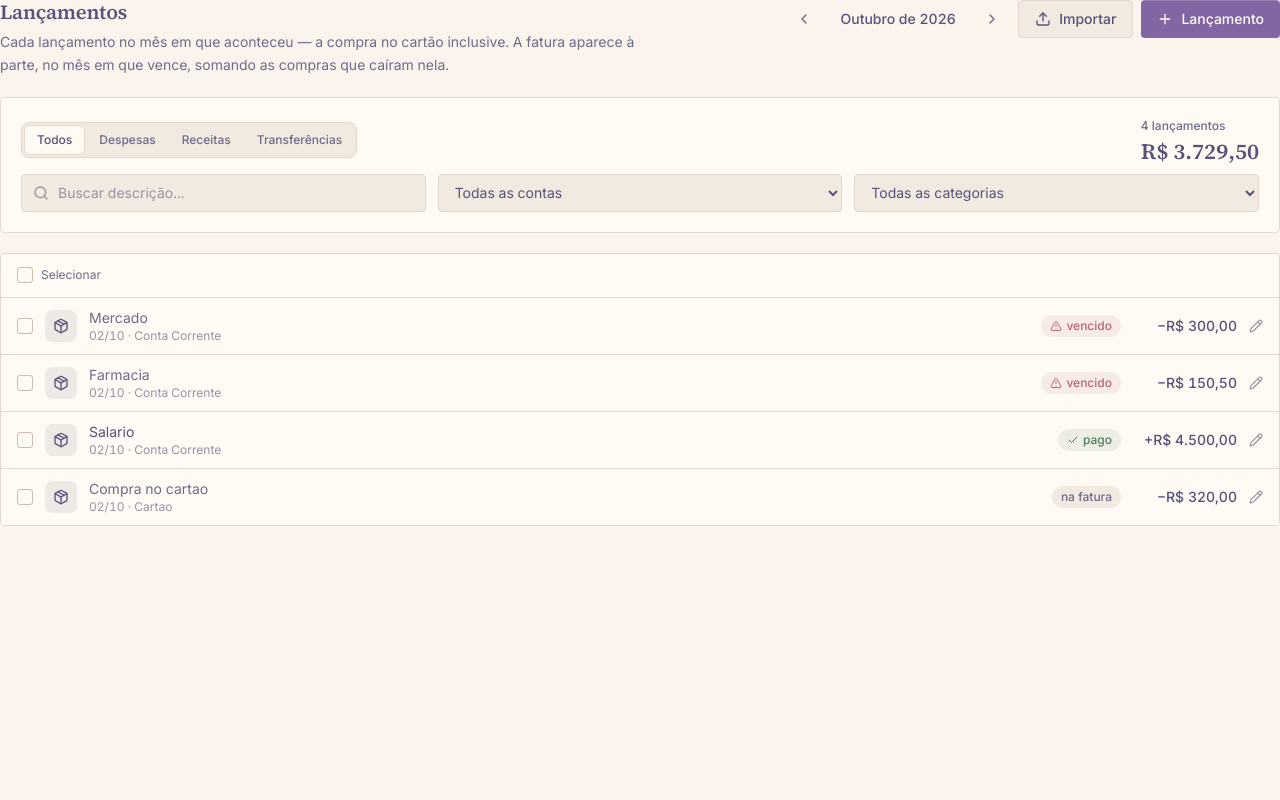
Test: seleção de lançamentos › com o editor aberto, o Esc é dele: fecha o editor e a seleção fica
Click the checkbox named "Selecionar Mercado, ": point(25, 326) [17,318,33,334]
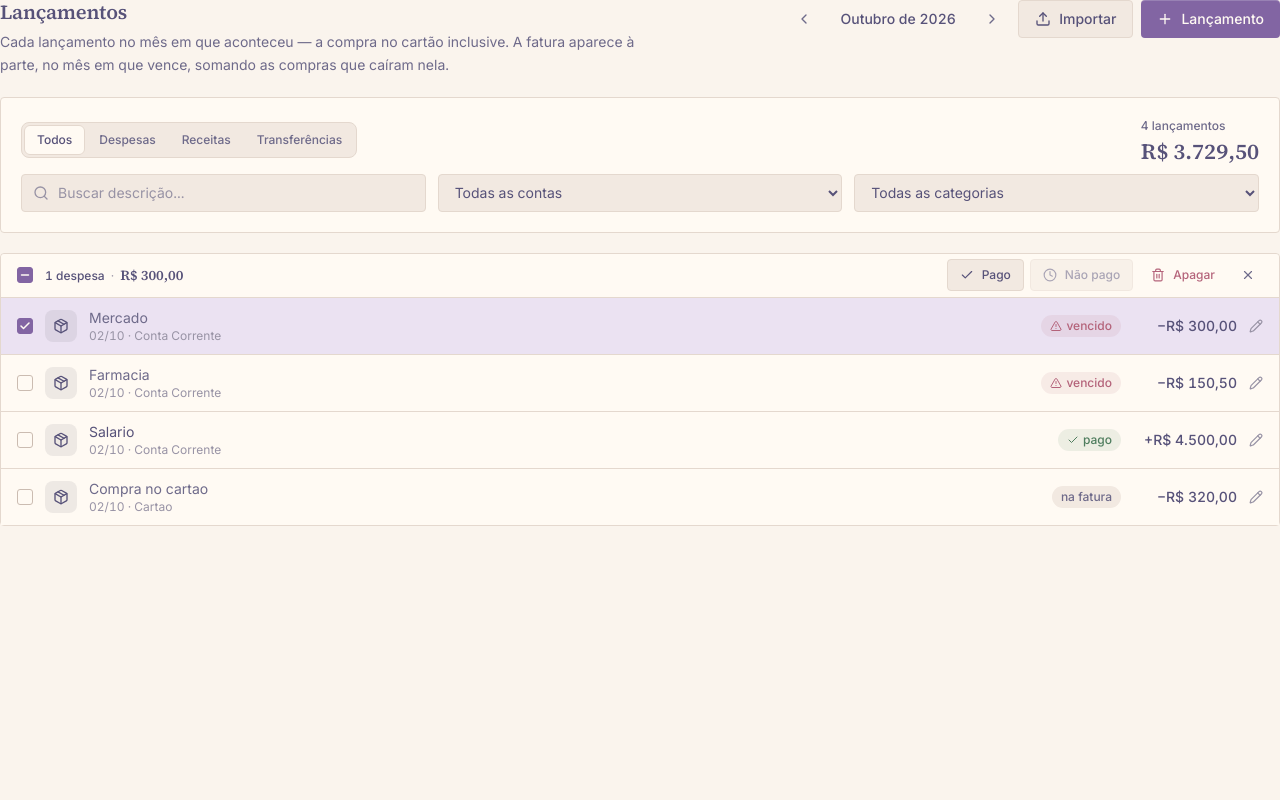
Click the text "Mercado": point(118, 317) [89,308,148,326]
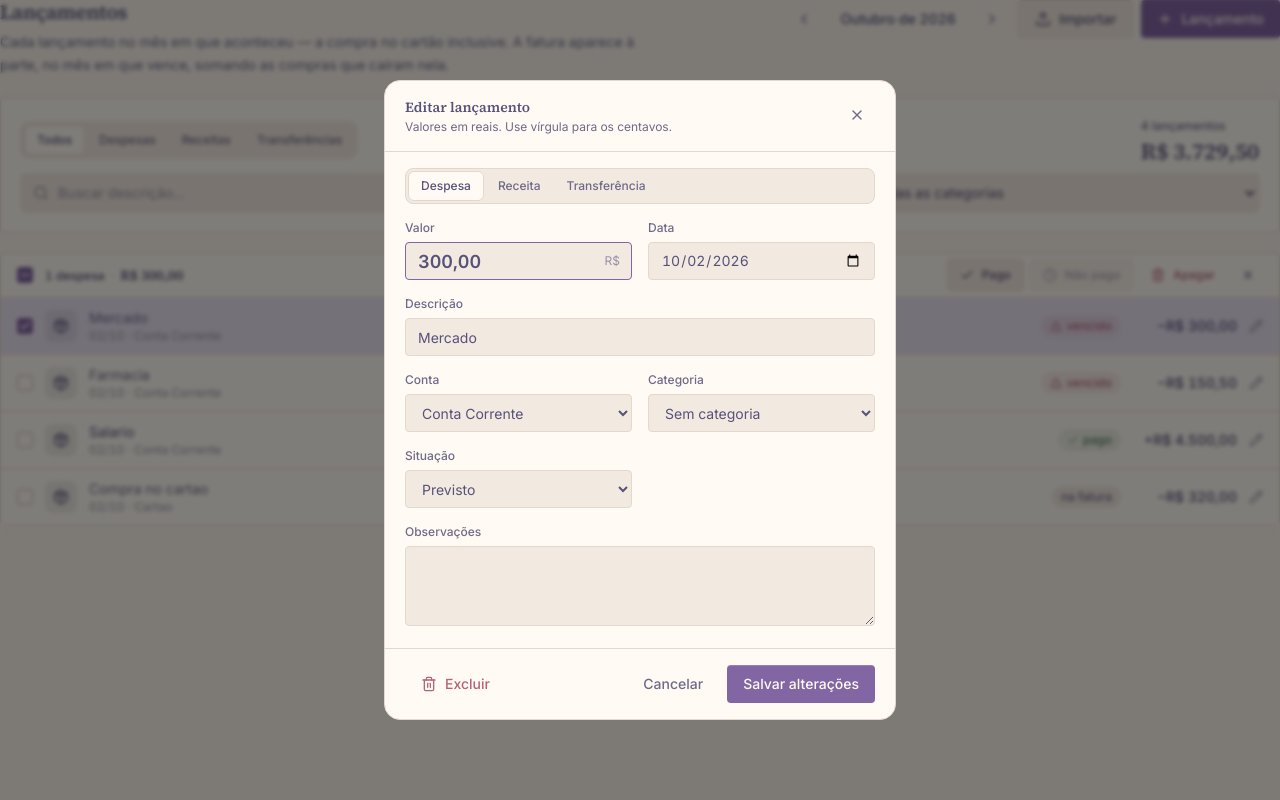
Press Escape in the dialog, box [384,80,896,720]
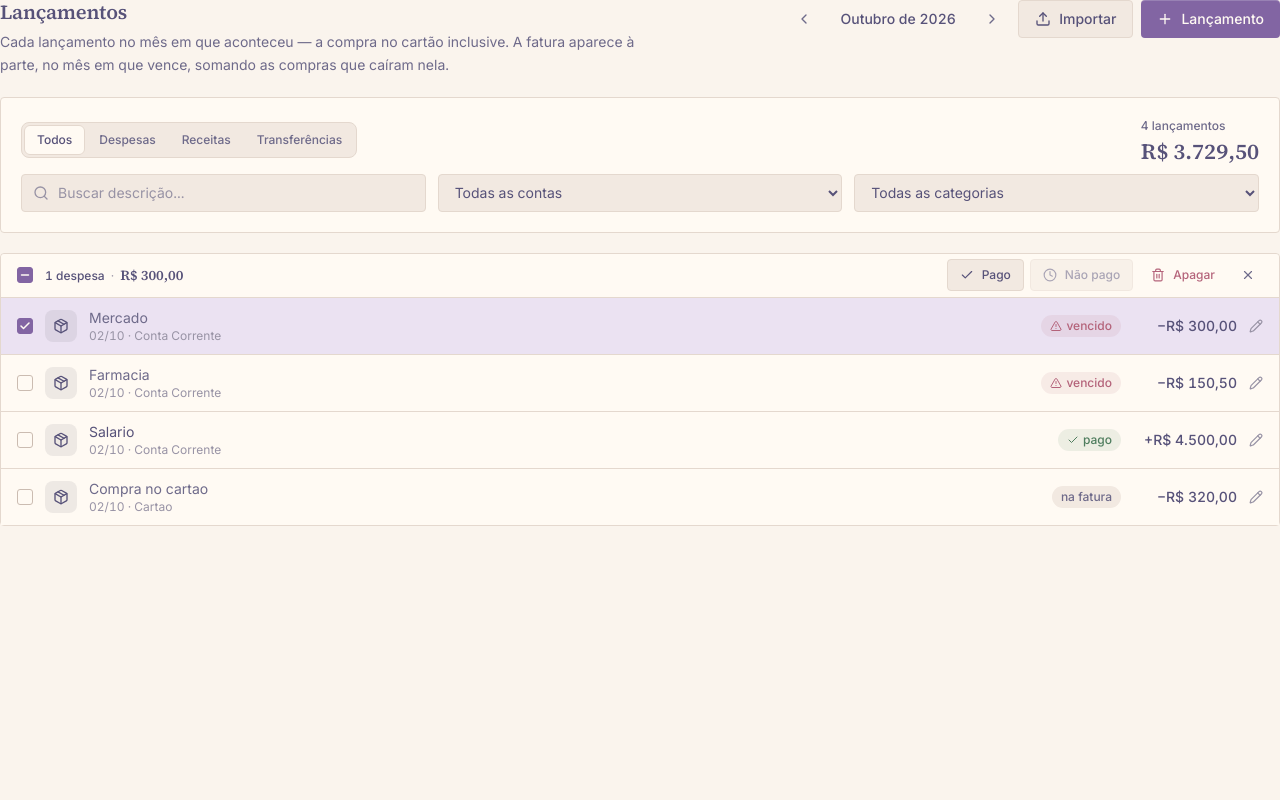
Expected: the checkbox named "Selecionar Mercado, " is checked, [17,318,33,334]
Expected: the dialog is gone
